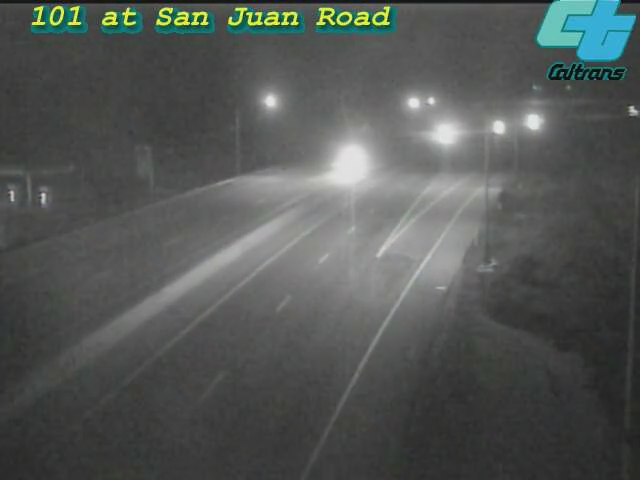vehicle: (306, 124, 386, 204), (420, 110, 470, 160), (468, 103, 518, 153), (505, 97, 555, 147), (610, 86, 640, 136)
